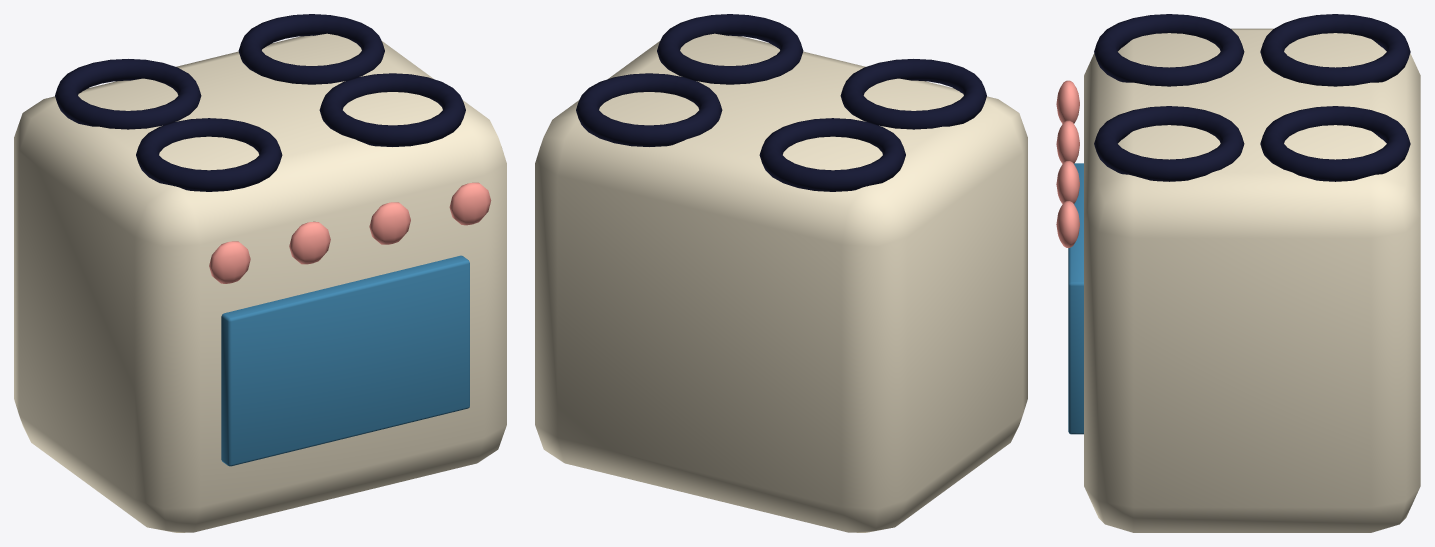
Rendered from r035_castle_kitchen_stove_stove.glb.
3 renders of one model, left to right at view 1: azimuth 30°, elevation 25°; view 2: azimuth 150°, elevation 25°; view 3: azimuth 270°, elevation 25°, orthographic. The views are drawn at different scales.
Visible parts, largest first — view 1: r035_castle_kitchen_stove_stove.001; view 2: r035_castle_kitchen_stove_stove.001; view 3: r035_castle_kitchen_stove_stove.001.
Part boxes in pixels (x1=…): r035_castle_kitchen_stove_stove.001: x1=14, y1=14, x2=506, y2=532; r035_castle_kitchen_stove_stove.001: x1=535, y1=14, x2=1027, y2=532; r035_castle_kitchen_stove_stove.001: x1=1056, y1=14, x2=1420, y2=532.
Bounding box in the file's own units: 2.2 × 2.08 × 1.84.
